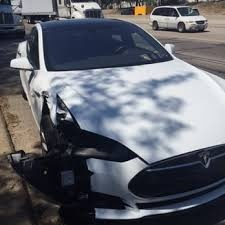Broken-glass: (52, 96, 137, 162)
